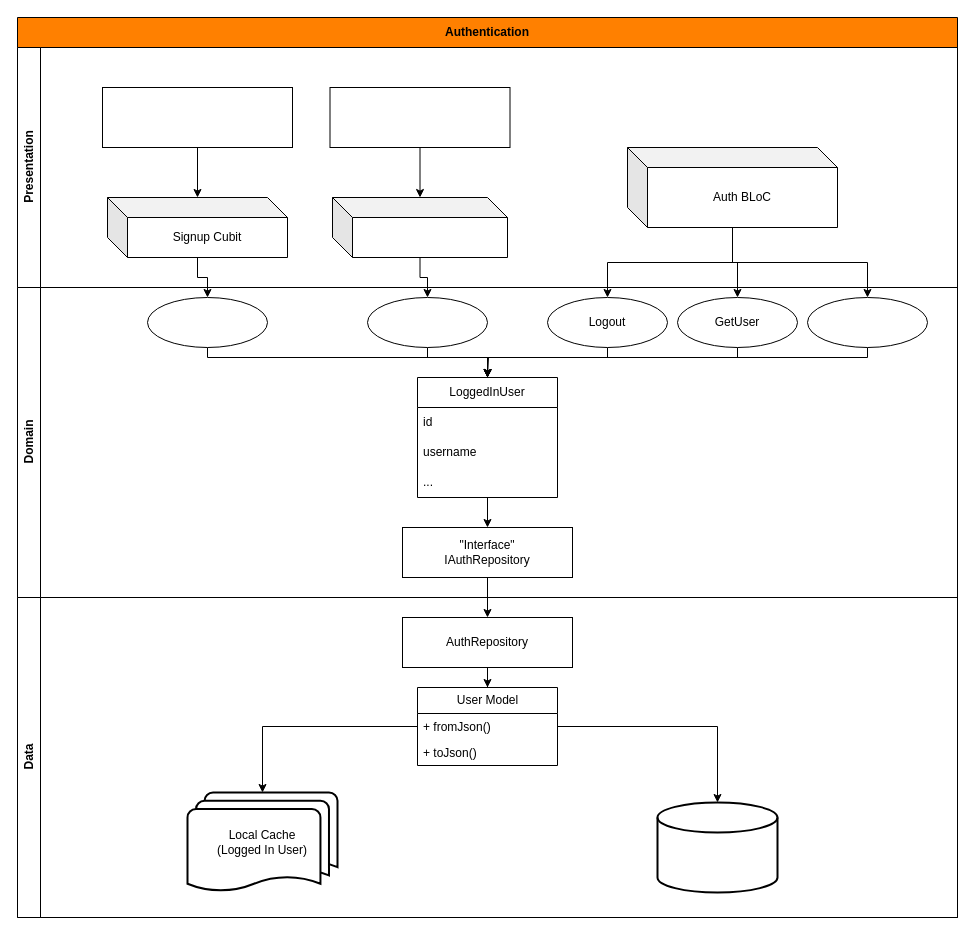
Some shapes in this 975 by 935 pixel diagram are drawn without their labels. The centre of each missing label's shape, as x and y in pixels:
"Auth Data Source" goes at point 717,847.
"GetStatus" goes at point 867,322.
"Login" goes at point 427,322.
"Login Cubit" goes at point 420,227.
"Login Screen" goes at point 419,117.
"Signup" goes at point 207,322.
"Signup Screen" goes at point 197,117.
